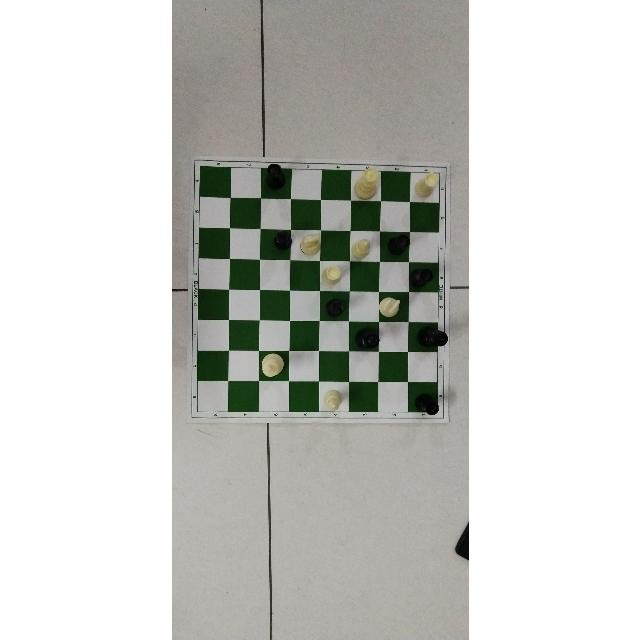black-bishop: (324, 298, 343, 317), (273, 230, 290, 249)
black-king: (415, 326, 447, 348)
black-queen: (352, 328, 379, 350)
black-rook: (414, 391, 440, 417), (408, 268, 434, 288), (388, 235, 410, 255)
white-bishop: (350, 238, 370, 258), (323, 391, 341, 411)
white-king: (260, 353, 284, 377)
white-knight: (378, 296, 399, 317), (299, 234, 319, 255)
white-queen: (352, 167, 377, 199)
white-rook: (413, 171, 438, 196), (265, 163, 284, 189), (322, 266, 340, 284)
